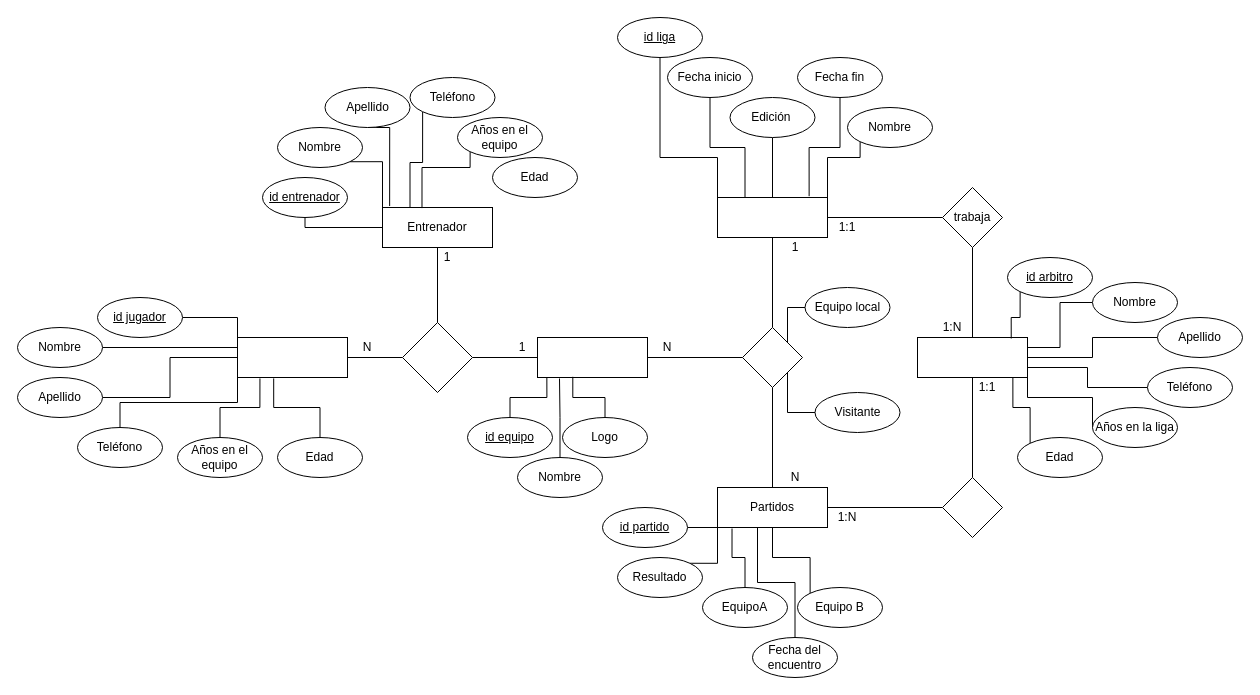
This 1260x695 diagram has some shape labels left out. Each missing label, with the centre of its shape:
"Arbitra" belongs at [972,507].
"Arbitro" belongs at [972,357].
"Equipos" belongs at [592,357].
"esta formado" belongs at [437,357].
"Jugador" belongs at [292,357].
"Liga" belongs at [772,217].
"participa" belongs at [772,357].
